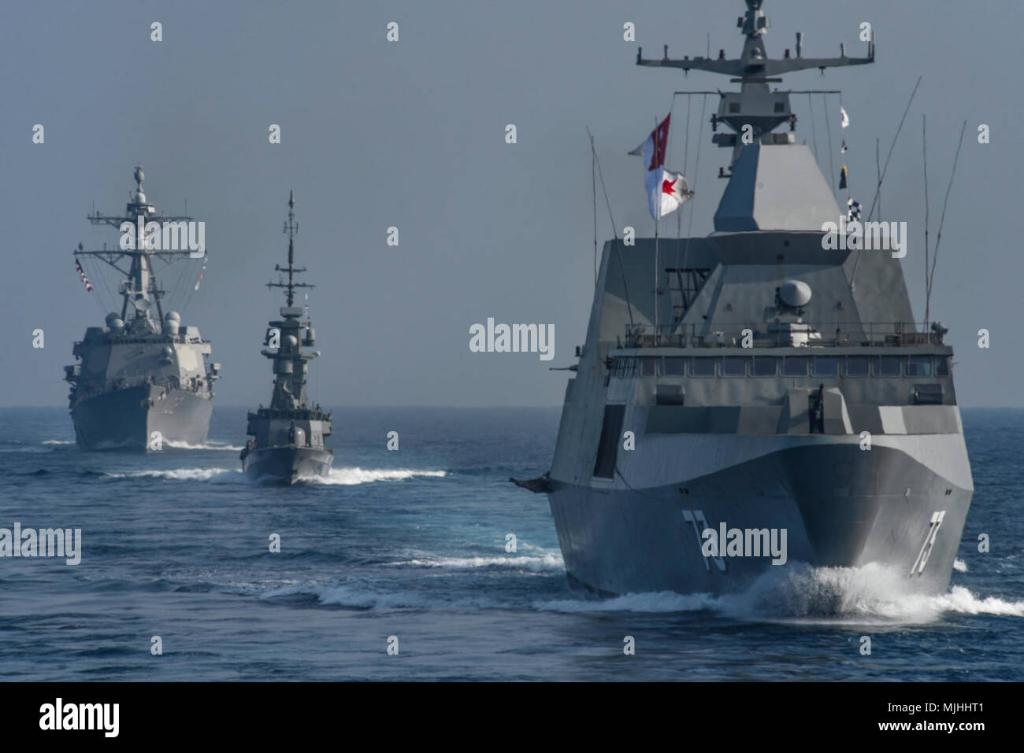Warship: (540, 0, 990, 616), (66, 152, 226, 453), (237, 176, 349, 494)
